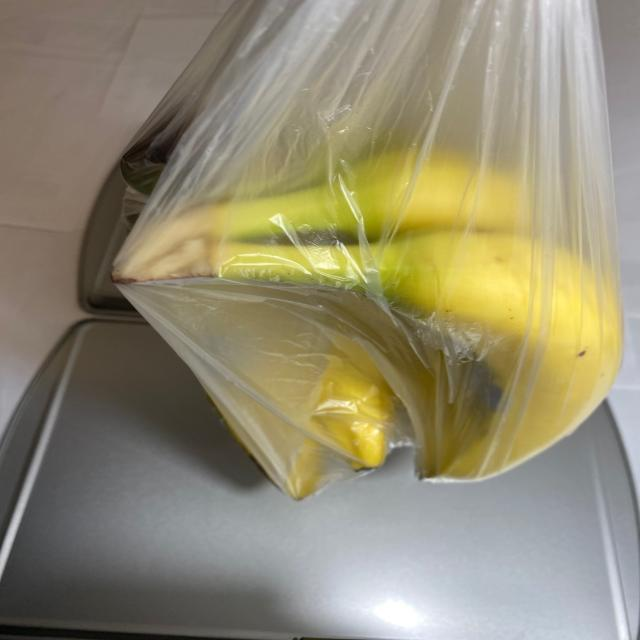banana: (106, 118, 615, 502)
